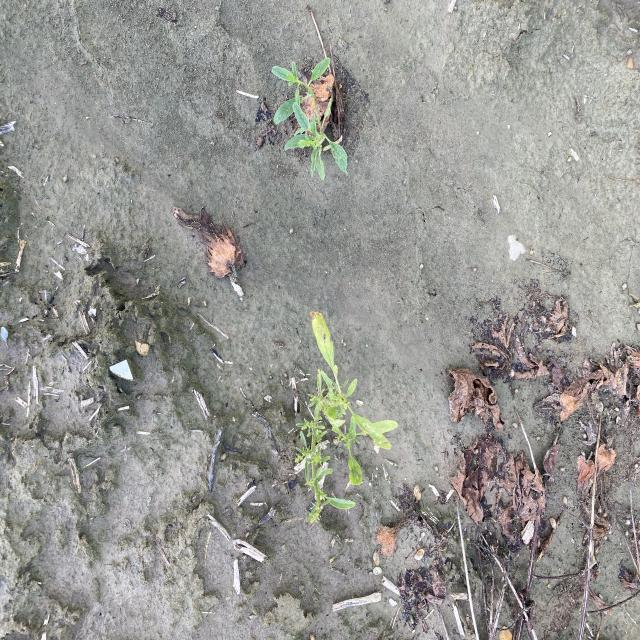Waterhemp: (292, 310, 400, 524), (271, 55, 350, 181)
